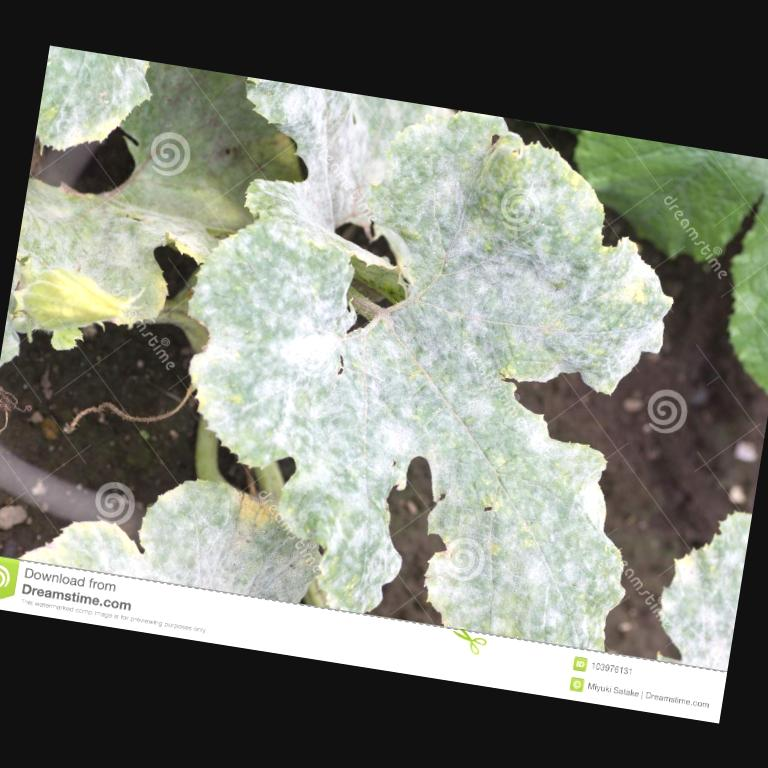powdery-mildew: (208, 264, 334, 432), (317, 106, 475, 228), (337, 328, 453, 456), (498, 529, 607, 643)
